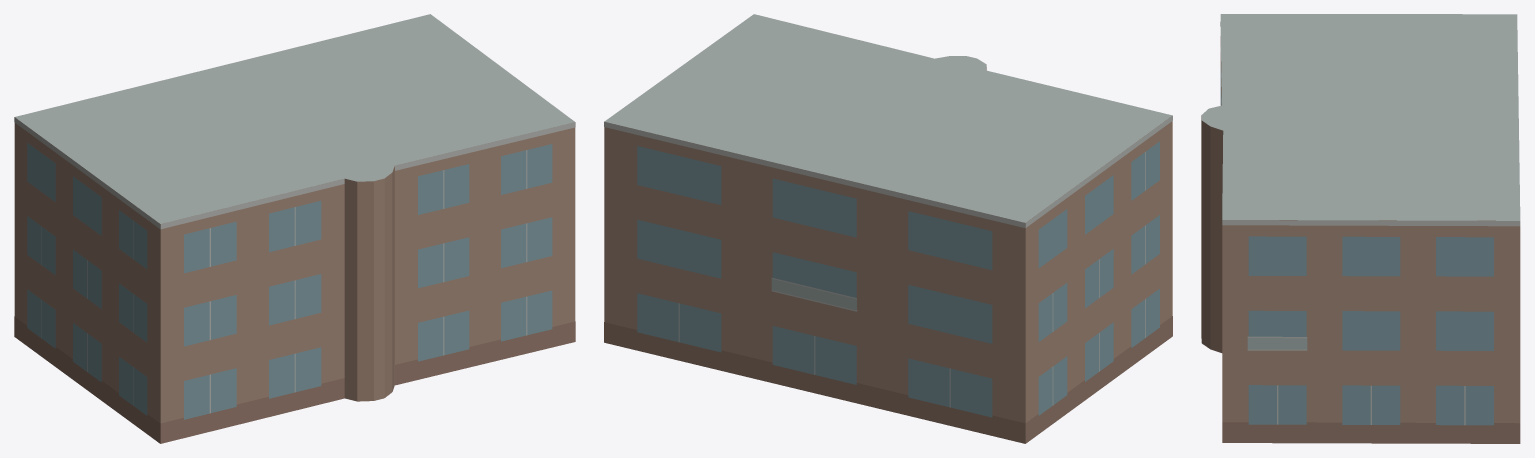
Rendered from survey-upis-32742584.glb.
The picture shows the model from 3 angles, left to right: view 1: azimuth 30°, elevation 25°; view 2: azimuth 150°, elevation 25°; view 3: azimuth 270°, elevation 25°; orthographic projection.
Visible parts, largest first — view 1: survey-upis-32742584.tmp; view 2: survey-upis-32742584.tmp; view 3: survey-upis-32742584.tmp.
Boxes of the visible parts, <box> form: survey-upis-32742584.tmp: <box>14,14,575,443</box>; survey-upis-32742584.tmp: <box>604,14,1172,443</box>; survey-upis-32742584.tmp: <box>1201,14,1520,443</box>.
Bounding box in the file's own units: 20.1 × 10.1 × 13.1.
